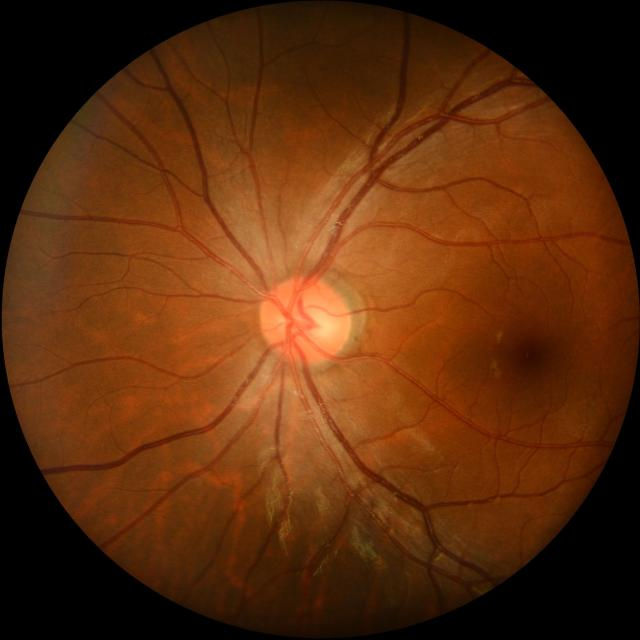OC: (292, 303, 331, 341)
OD: (260, 276, 348, 362)
